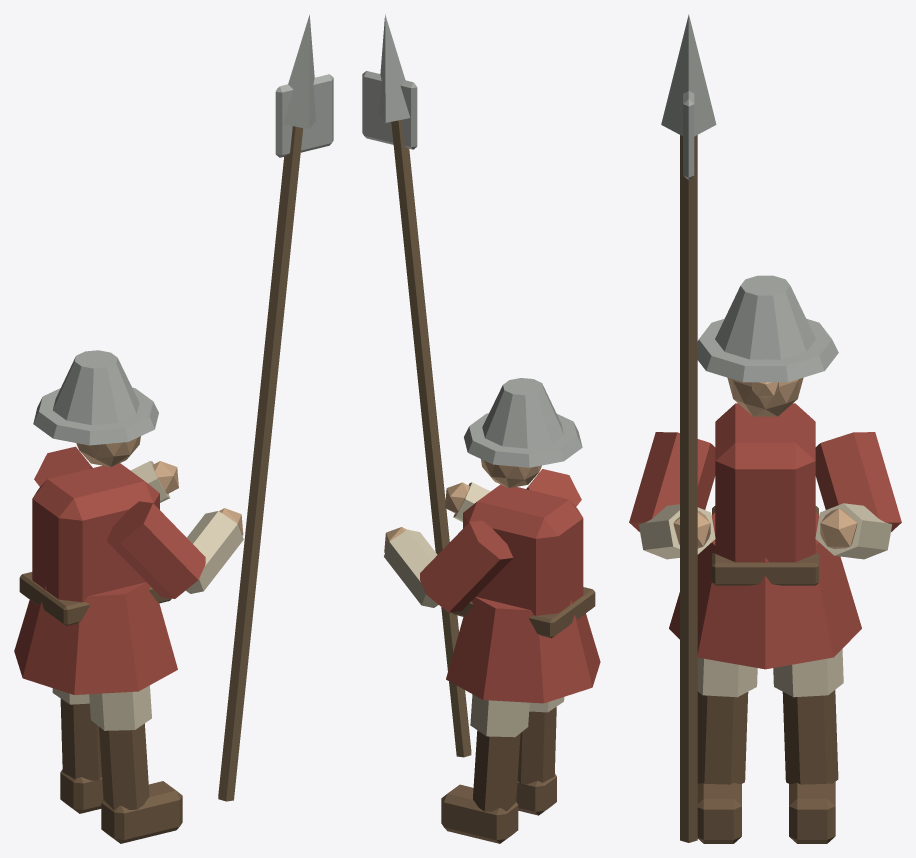
Rendered from infantry_polearm.glb.
3 renders of one model, left to right at view 1: azimuth 30°, elevation 25°; view 2: azimuth 150°, elevation 25°; view 3: azimuth 270°, elevation 25°, orthographic. The views are drawn at different scales.
Visible parts, largest first — view 1: infantry_polearm_red, infantry_polearm_steel, infantry_polearm_leather, infantry_polearm_oak_dark, infantry_polearm_linen, infantry_polearm_skin; view 2: infantry_polearm_red, infantry_polearm_steel, infantry_polearm_leather, infantry_polearm_oak_dark, infantry_polearm_linen, infantry_polearm_skin; view 3: infantry_polearm_red, infantry_polearm_leather, infantry_polearm_steel, infantry_polearm_oak_dark, infantry_polearm_linen, infantry_polearm_skin.
Part boxes in pixels (box(x1,y1,x2,y2)): infantry_polearm_red: box(14, 446, 205, 694); infantry_polearm_steel: box(33, 15, 333, 445); infantry_polearm_leather: box(19, 572, 182, 843); infantry_polearm_oak_dark: box(218, 126, 303, 801); infantry_polearm_linen: box(52, 461, 243, 730); infantry_polearm_skin: box(76, 436, 243, 535); infantry_polearm_red: box(420, 469, 600, 703); infantry_polearm_steel: box(362, 14, 582, 467); infantry_polearm_leather: box(441, 587, 595, 843); infantry_polearm_oak_dark: box(391, 120, 471, 757); infantry_polearm_linen: box(384, 482, 564, 737); infantry_polearm_skin: box(384, 459, 541, 552); infantry_polearm_red: box(629, 403, 901, 669); infantry_polearm_leather: box(697, 506, 838, 843); infantry_polearm_steel: box(661, 14, 838, 382); infantry_polearm_oak_dark: box(680, 135, 697, 842); infantry_polearm_linen: box(638, 503, 892, 697); infantry_polearm_skin: box(673, 359, 857, 548).
Bounding box in the file's own units: 1.09 × 2.98 × 0.8186.
